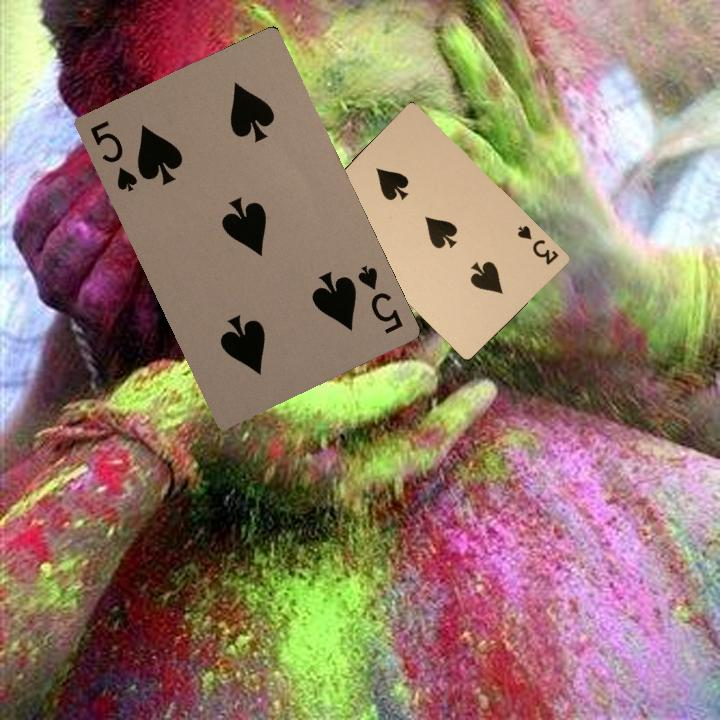3s: (513, 221, 561, 268)
5s: (86, 116, 140, 194), (353, 261, 406, 336)
